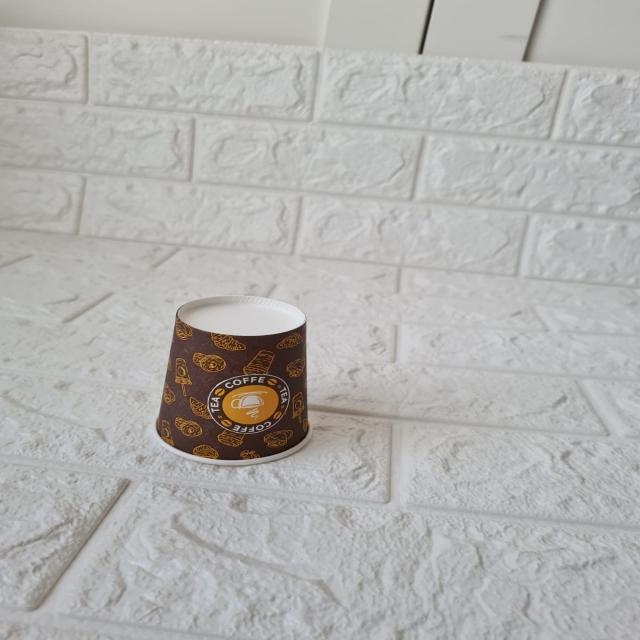cups: (150, 296, 316, 462)
